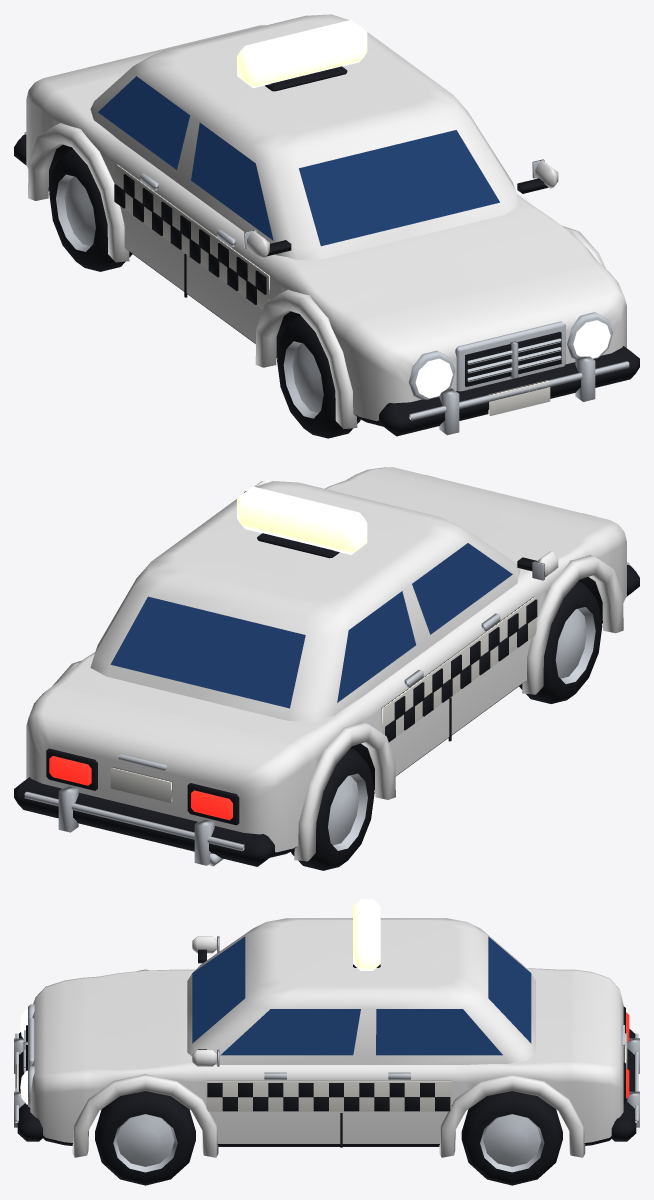
Rendered from taxi.glb.
3 views of the same model, one above another, from view 1: azimuth 30°, elevation 25°; view 2: azimuth 150°, elevation 25°; view 3: azimuth 270°, elevation 25° (orthographic). The views are drawn at different scales.
Parts seen in each view (by area): view 1: Body, Glass, Checker, RoofSign, Wheel_FR, Wheel_RR, HeadLights; view 2: Body, Glass, Checker, RoofSign, Wheel_FR, Wheel_RR, TailLights; view 3: Body, Glass, Checker, Wheel_RL, Wheel_FL, RoofSign.
Part boxes in pixels (<box>): Body: <box>14,14,639,436</box>; Glass: <box>98,76,499,246</box>; Checker: <box>114,164,270,309</box>; RoofSign: <box>237,19,367,88</box>; Wheel_FR: <box>277,316,360,438</box>; Wheel_RR: <box>49,149,132,271</box>; HeadLights: <box>415,320,610,398</box>; Body: <box>14,467,639,866</box>; Glass: <box>110,543,512,708</box>; Checker: <box>381,596,537,742</box>; RoofSign: <box>237,486,367,554</box>; Wheel_FR: <box>519,581,602,703</box>; Wheel_RR: <box>291,748,374,870</box>; TailLights: <box>49,756,232,820</box>; Body: <box>14,918,639,1157</box>; Glass: <box>192,936,531,1055</box>; Checker: <box>206,1080,451,1111</box>; Wheel_RL: <box>461,1091,562,1185</box>; Wheel_FL: <box>95,1091,195,1185</box>; RoofSign: <box>353,899,380,970</box>.
Bounding box in the file's own units: 2.22 × 1.88 × 4.95.
